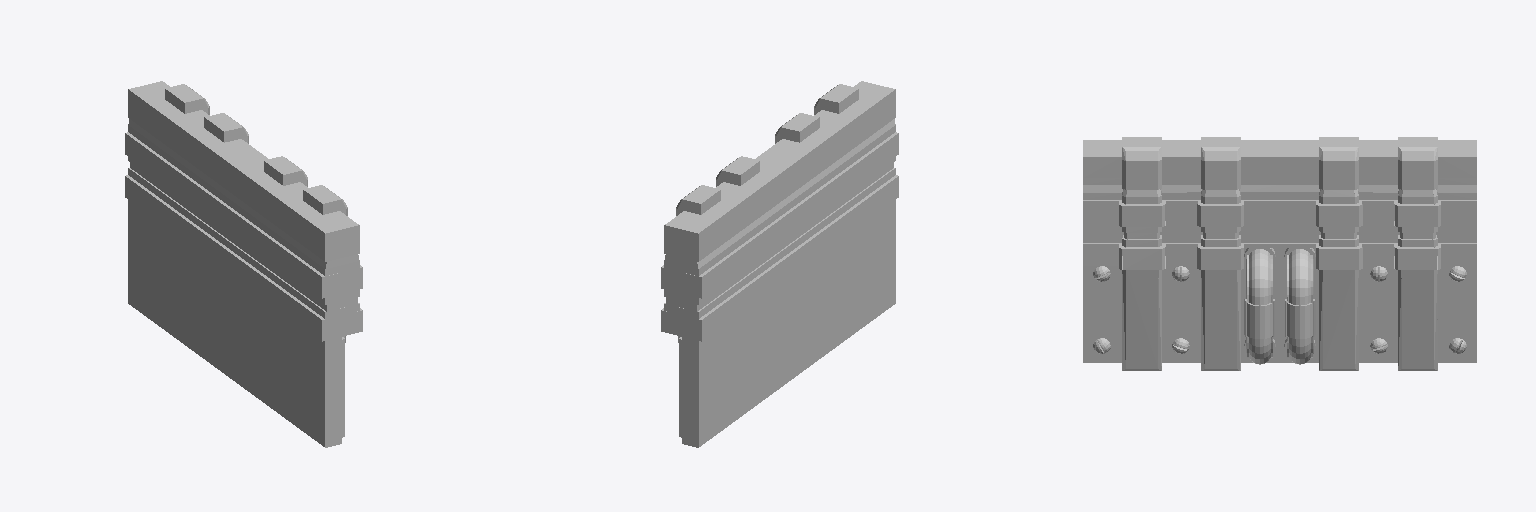
File: Wall1.OBJ
3 views of the same model, side by side, from view 1: azimuth 30°, elevation 25°; view 2: azimuth 150°, elevation 25°; view 3: azimuth 270°, elevation 25° (orthographic).
Parts seen in each view (by area): view 1: Group29977; view 2: Group29977; view 3: Group29977.
Boxes of the visible parts, box(x1,y1,x2,y2) form: Group29977: box(125, 81, 362, 447); Group29977: box(661, 81, 898, 447); Group29977: box(1083, 137, 1476, 370).
Bounding box in the file's own units: 0.5088 × 1.69 × 2.69.